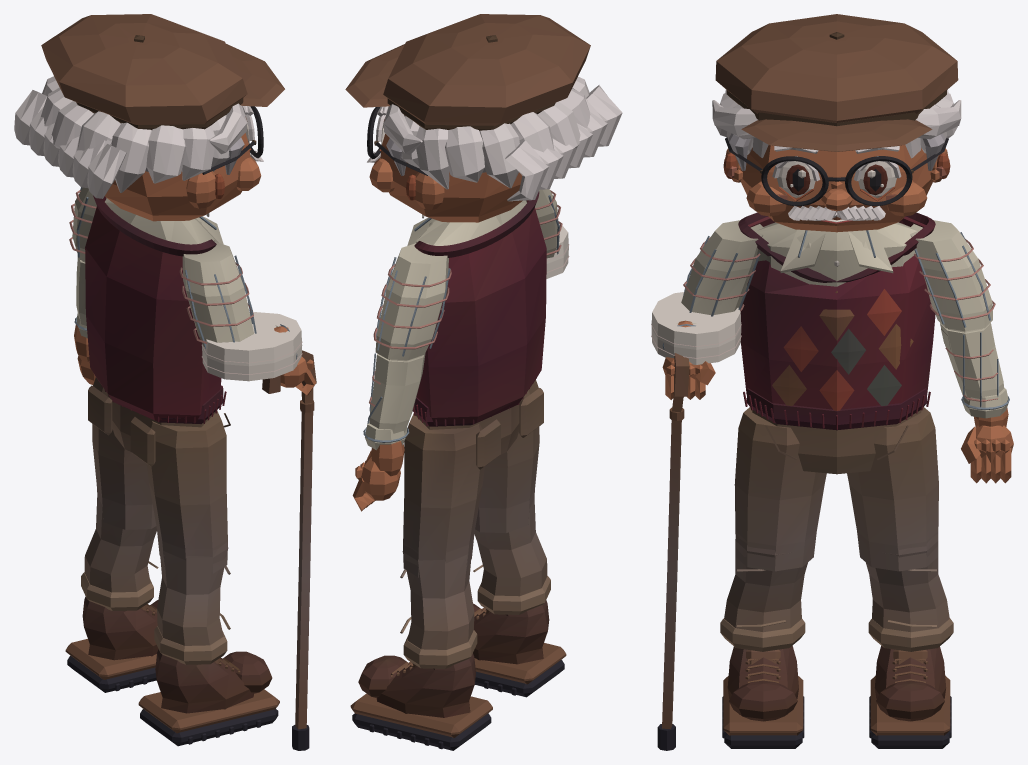
Rendered from npc.mr-okafor.aftermath.glb.
3 renders of one model, left to right at view 1: azimuth 30°, elevation 25°; view 2: azimuth 150°, elevation 25°; view 3: azimuth 270°, elevation 25°, orthographic.
Parts seen in each view (by area): view 1: head, torso, legR, footR, shinR, footL, handR, armR, shinL, foreArmR, legL, hip (+3 smaller); view 2: head, torso, legL, footL, shinL, armL, footR, shinR, legR, foreArmL, hip, handL (+2 smaller); view 3: head, torso, legR, legL, footR, footL, shinL, shinR, armL, handR, armR, foreArmR (+3 smaller).
Part boxes in pixels (x1,y1,x2,y2): head: [14, 14, 284, 221]; torso: [85, 195, 226, 424]; legR: [146, 411, 227, 573]; footR: [138, 649, 279, 746]; shinR: [154, 542, 230, 664]; footL: [65, 596, 158, 692]; handR: [262, 326, 316, 750]; armR: [179, 241, 256, 348]; shinL: [81, 496, 158, 610]; foreArmR: [201, 312, 302, 381]; legL: [92, 377, 156, 529]; hip: [88, 385, 230, 466]; head: [345, 14, 622, 222]; torso: [407, 191, 546, 426]; legL: [403, 413, 484, 577]; footL: [350, 653, 492, 750]; shinL: [400, 545, 477, 668]; armL: [373, 243, 451, 360]; footR: [473, 600, 566, 697]; shinR: [473, 498, 550, 614]; legR: [475, 379, 539, 533]; foreArmL: [363, 353, 425, 450]; hip: [415, 388, 543, 469]; handL: [352, 441, 404, 511]; head: [712, 14, 961, 232]; torso: [738, 212, 935, 430]; legR: [734, 407, 826, 571]; legL: [847, 407, 938, 571]; footR: [722, 645, 804, 748]; footL: [869, 645, 951, 748]; shinL: [866, 534, 953, 651]; shinR: [720, 534, 807, 651]; armL: [910, 220, 995, 331]; handR: [657, 320, 715, 750]; armR: [681, 220, 763, 316]; foreArmR: [651, 292, 741, 364].
Bounding box in the file's own units: 0.5877 × 1.78 × 0.866.
